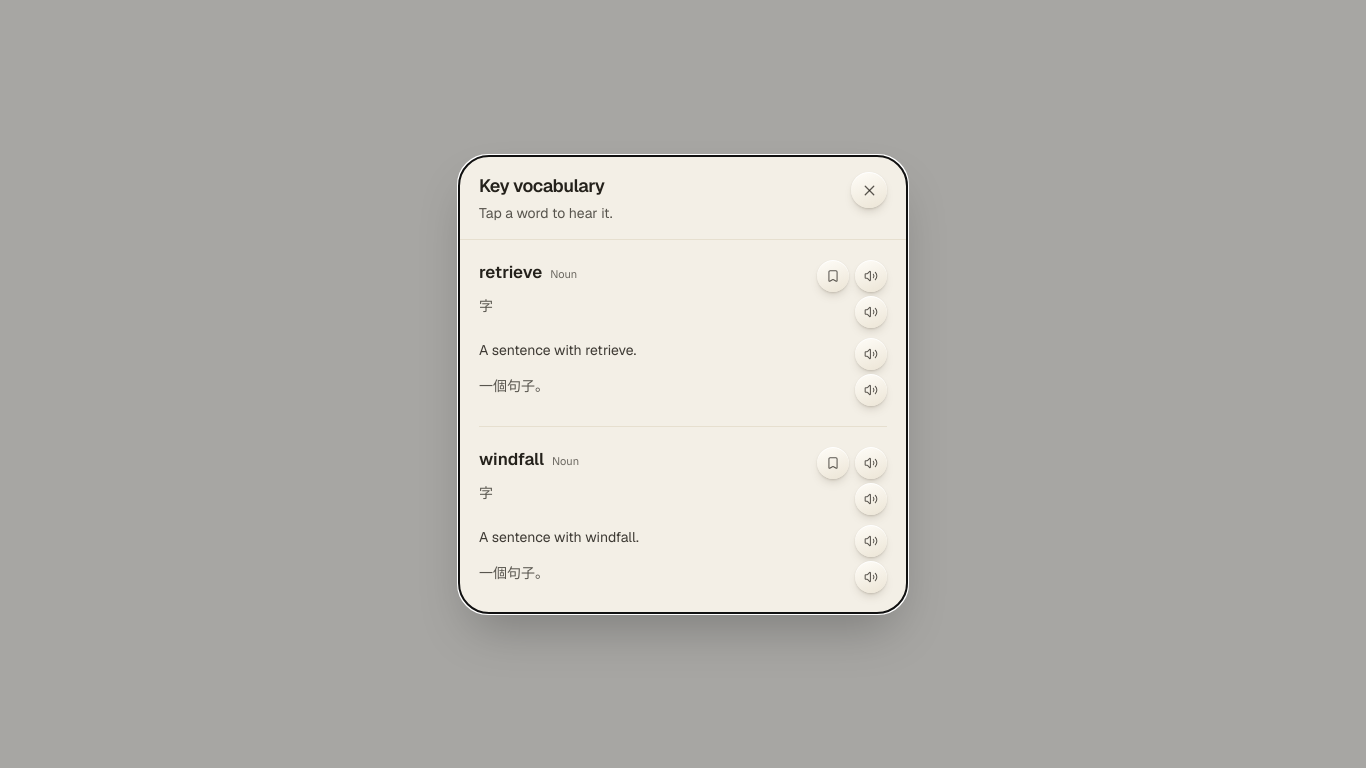
Test: when the save does not work › asks the reader to sign in rather than going quiet
Click the button named "Add windfall to Vocabulary" at (833,462), box [817, 446, 849, 478]
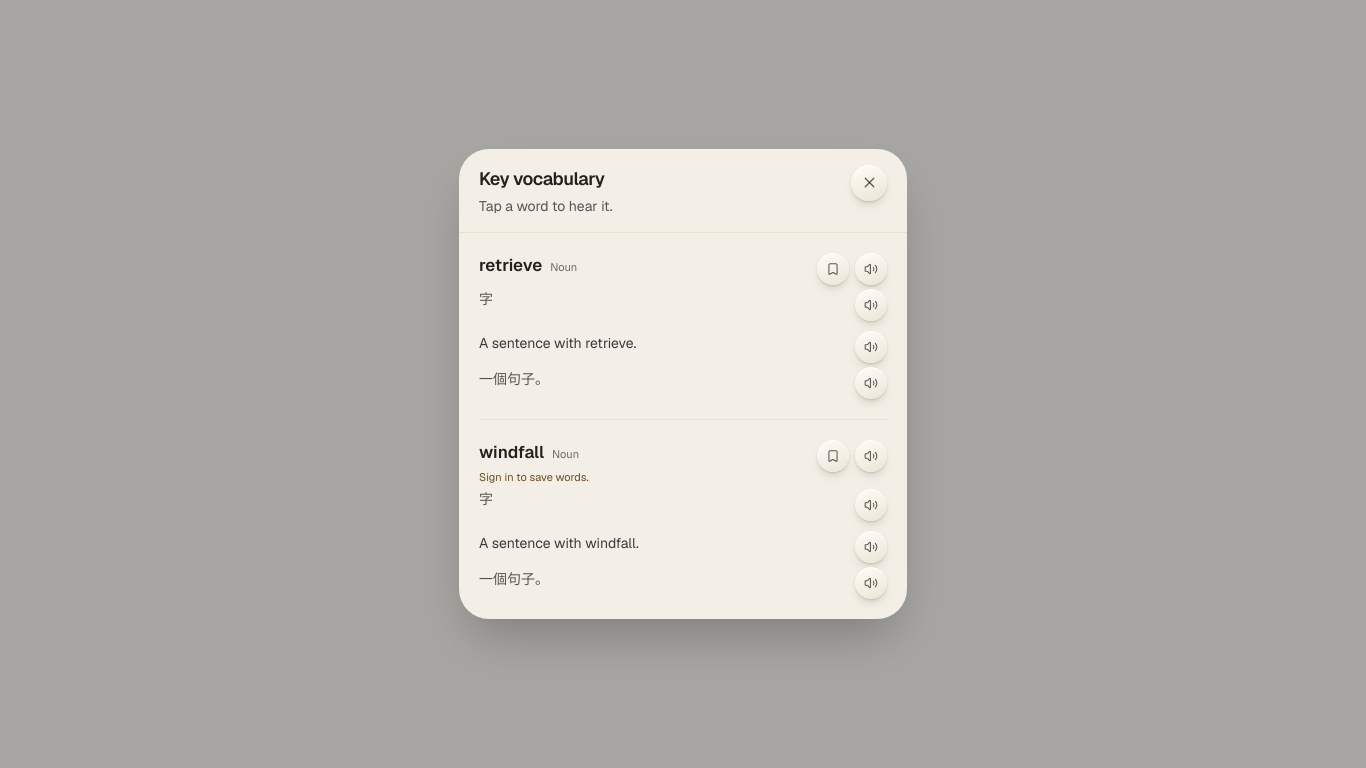
Expected: the text "Sign in to save words." is shown, [479, 469, 589, 485]
